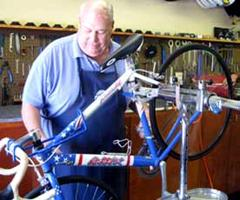person: (19, 2, 153, 200)
